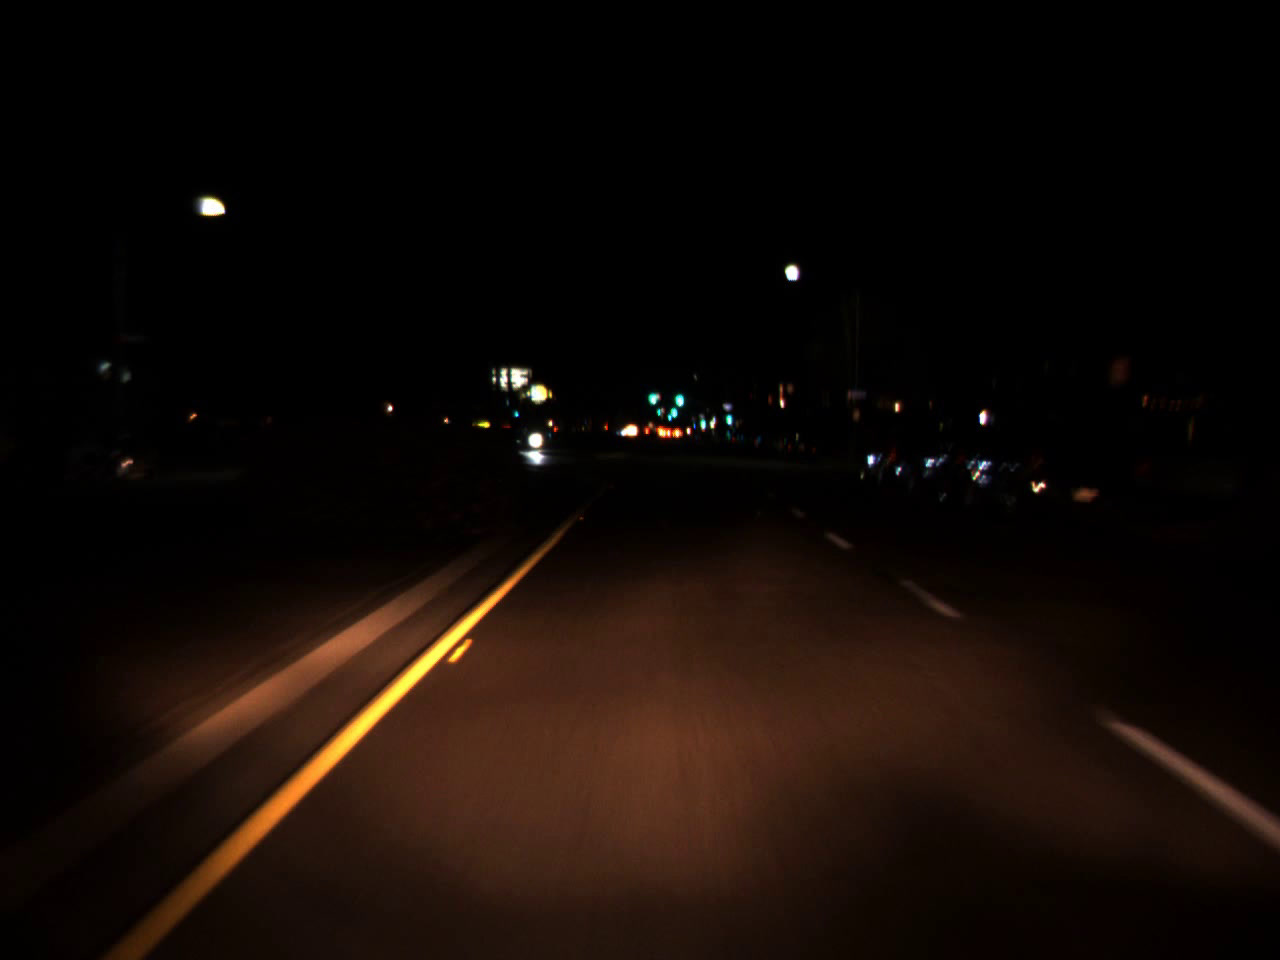go: (646, 381, 660, 408), (672, 384, 684, 408), (669, 395, 678, 422), (724, 401, 733, 428), (698, 411, 705, 429), (665, 407, 672, 422)
